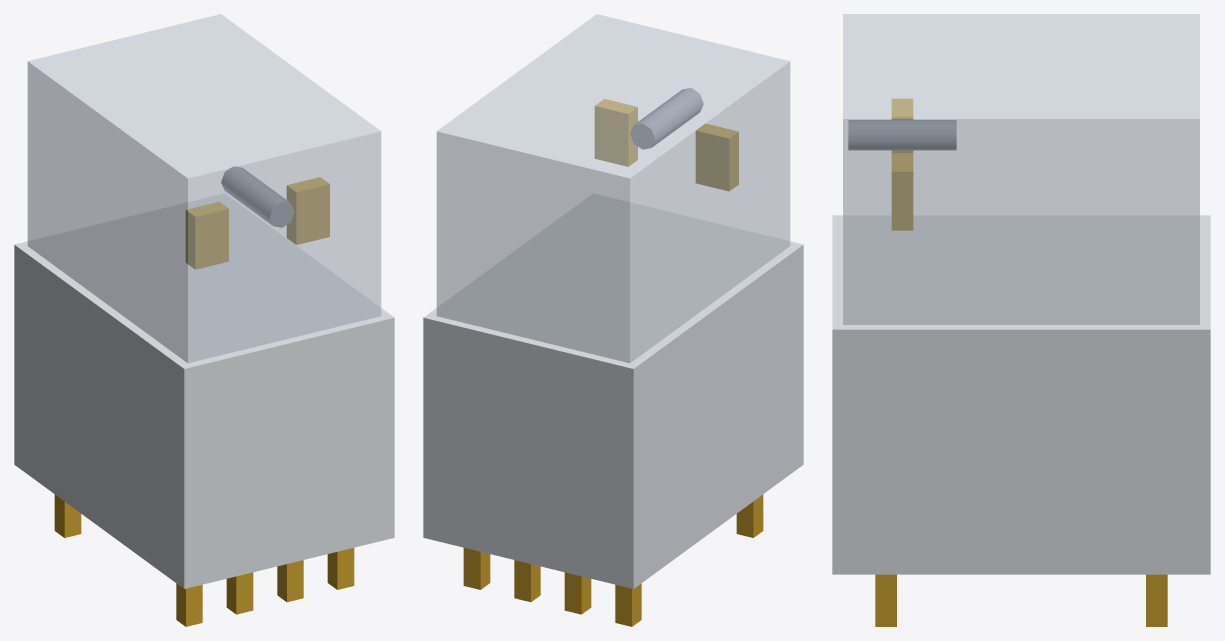
File: relay.glb
3 renders of one model, left to right at view 1: azimuth 30°, elevation 25°; view 2: azimuth 150°, elevation 25°; view 3: azimuth 270°, elevation 25°, orthographic. The views are drawn at different scales.
Size of the model in its own units: 0.5 by 1.05 by 0.7.
